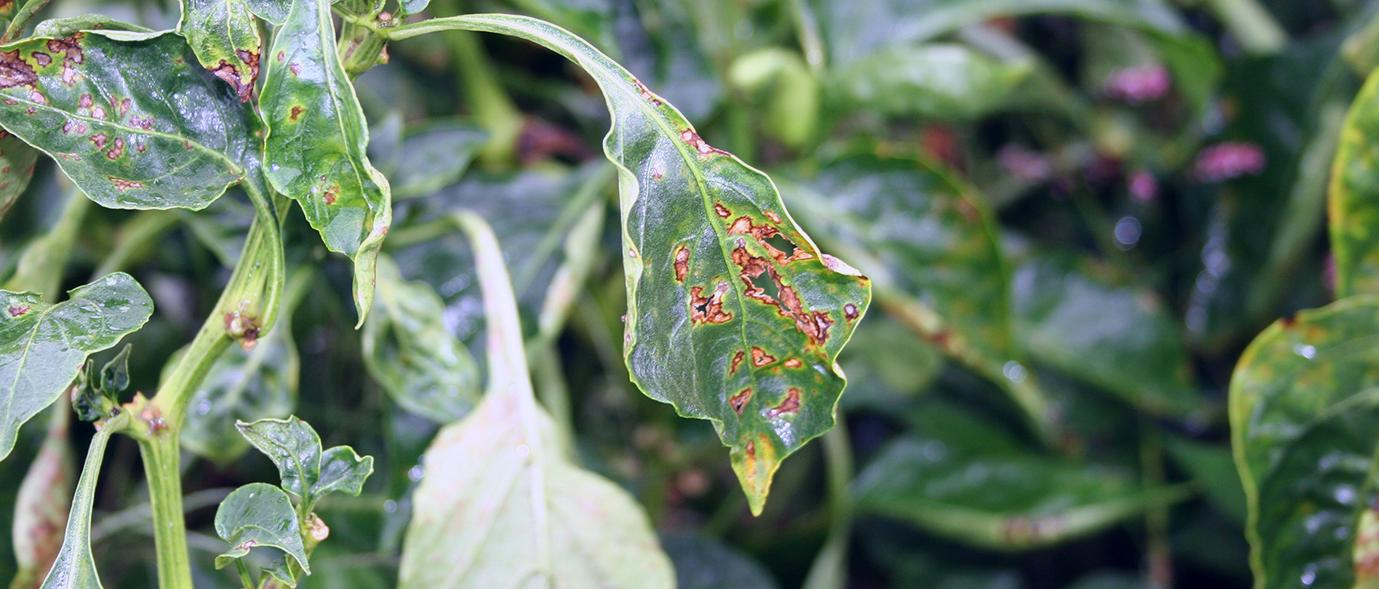Tomato leaf bacterial spot: (551, 48, 894, 521), (1210, 257, 1379, 589), (0, 0, 234, 214), (242, 0, 422, 270)
